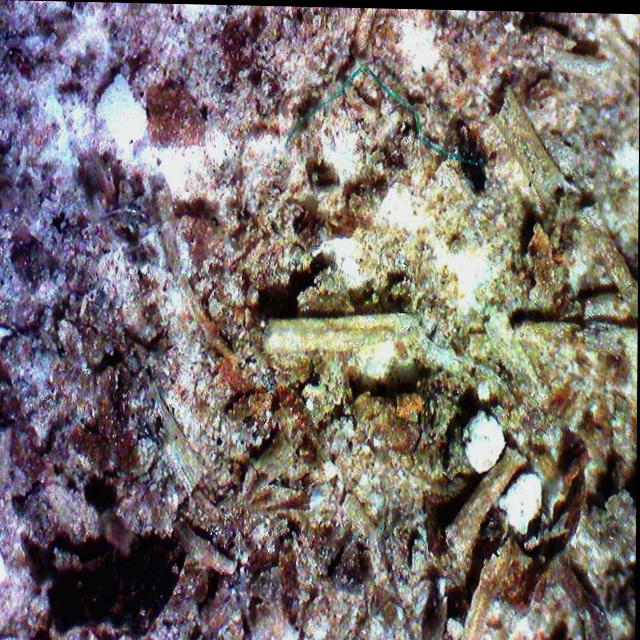microplastic: (284, 58, 486, 168)
